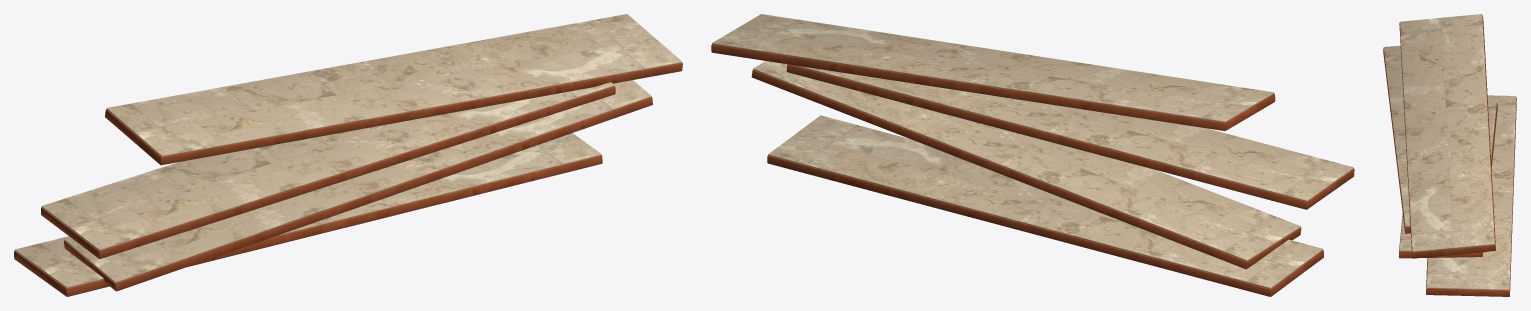
Rendered from PIS-ROD-001_anim.glb.
3 renders of one model, left to right at view 1: azimuth 30°, elevation 25°; view 2: azimuth 150°, elevation 25°; view 3: azimuth 270°, elevation 25°, orthographic. The views are drawn at different scales.
Visible parts, largest first — view 1: PIS-ROD-001_anim3, PIS-ROD-001_anim2, PIS-ROD-001_anim1, PIS-ROD-001_anim0; view 2: PIS-ROD-001_anim3, PIS-ROD-001_anim0, PIS-ROD-001_anim1, PIS-ROD-001_anim2; view 3: PIS-ROD-001_anim3, PIS-ROD-001_anim0, PIS-ROD-001_anim2, PIS-ROD-001_anim1.
Part boxes in pixels (left/top/right/bottom): PIS-ROD-001_anim3: left=105, top=14, right=682, bottom=165; PIS-ROD-001_anim2: left=41, top=82, right=615, bottom=258; PIS-ROD-001_anim1: left=64, top=80, right=652, bottom=291; PIS-ROD-001_anim0: left=14, top=133, right=602, bottom=296; PIS-ROD-001_anim3: left=711, top=14, right=1275, bottom=130; PIS-ROD-001_anim0: left=767, top=115, right=1323, bottom=296; PIS-ROD-001_anim1: left=751, top=61, right=1301, bottom=269; PIS-ROD-001_anim2: left=786, top=64, right=1354, bottom=209; PIS-ROD-001_anim3: left=1399, top=14, right=1495, bottom=258; PIS-ROD-001_anim0: left=1426, top=95, right=1516, bottom=296; PIS-ROD-001_anim2: left=1383, top=45, right=1410, bottom=233; PIS-ROD-001_anim1: left=1399, top=101, right=1497, bottom=258.
Bounding box in the file's own units: 0.5139 × 0.1218 × 0.1275.
Materials: 2 (2 with a texture image).
